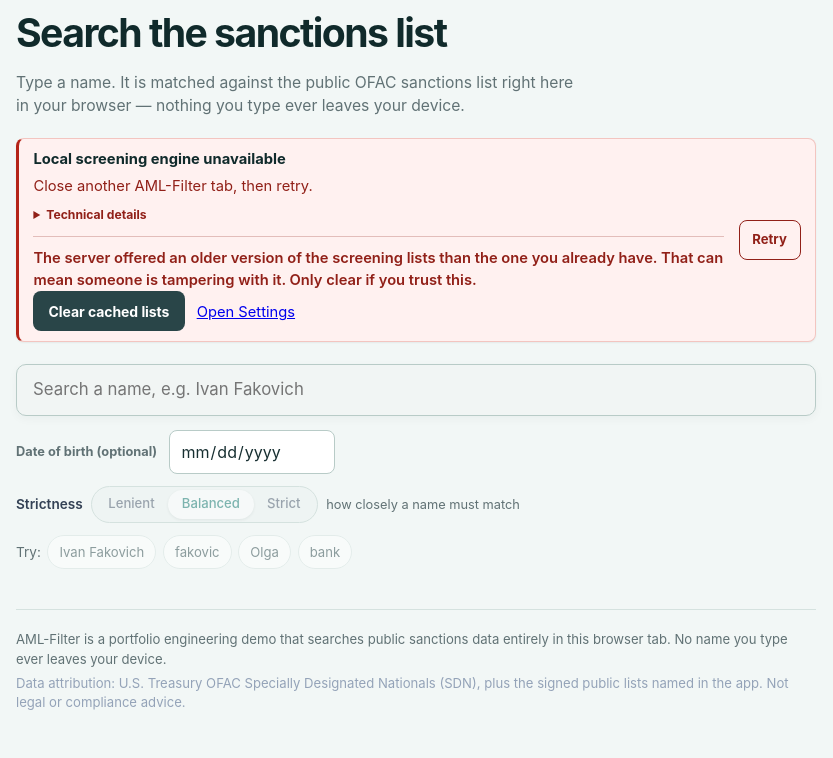
ScreenPage — in-app recovery from a refused bundle › warns on a rollback, clears only after a confirm, then re-boots
Expected: the message shows "older version of the screening lists", 33,249 -> 723,289
Click the button "Clear cached lists": click(109, 311) 33,291 -> 184,331
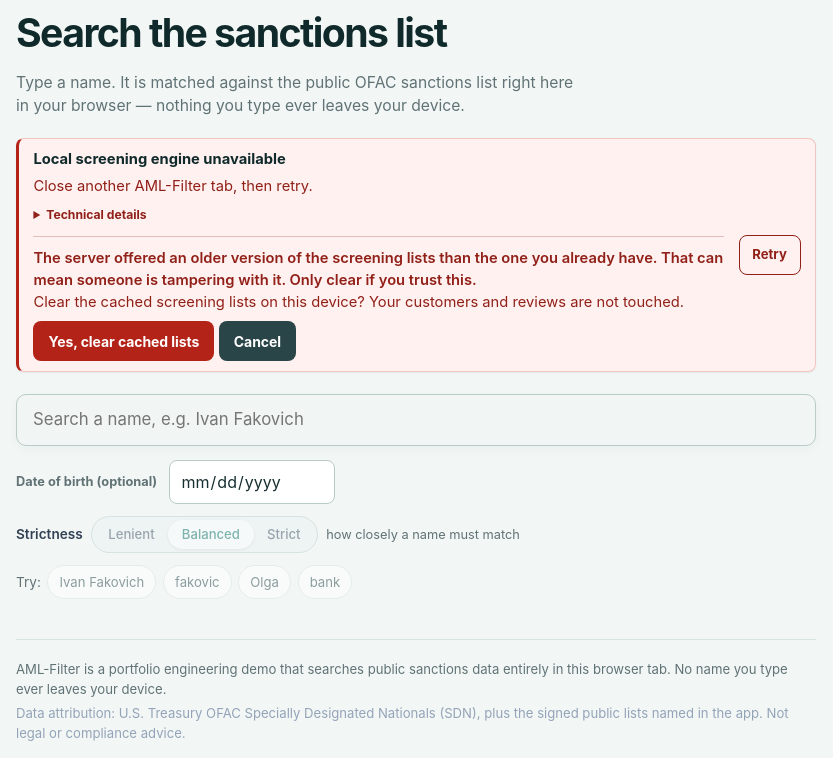
Click the button "Yes, clear cached lists": click(124, 341) 33,321 -> 214,362
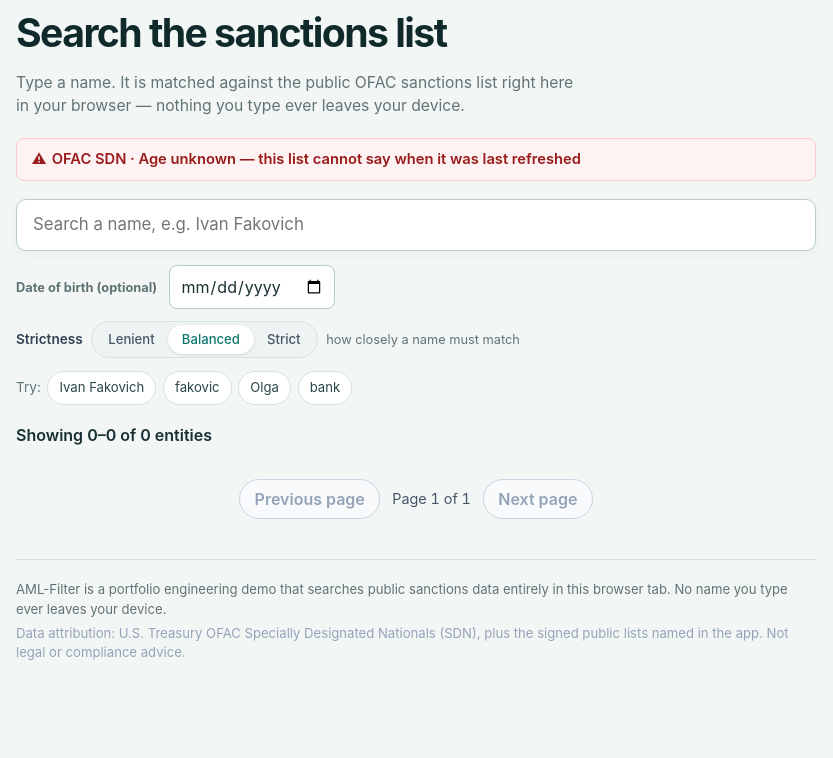
Expected: the search field with placeholder "Search a name, e.g. Ivan Fakovich" is enabled, 16,199 -> 816,251
Expected: the text "older version of the screening lists" is gone
Expected: the element with test id "cache-recovery" is gone
